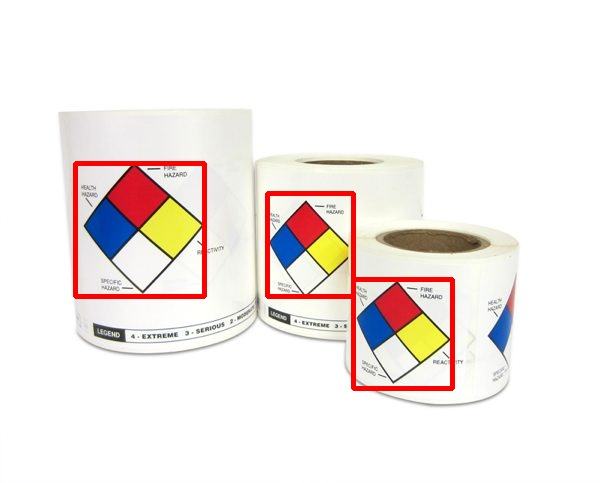nfpa: (75, 163, 204, 296), (353, 279, 452, 388), (267, 193, 353, 296)
